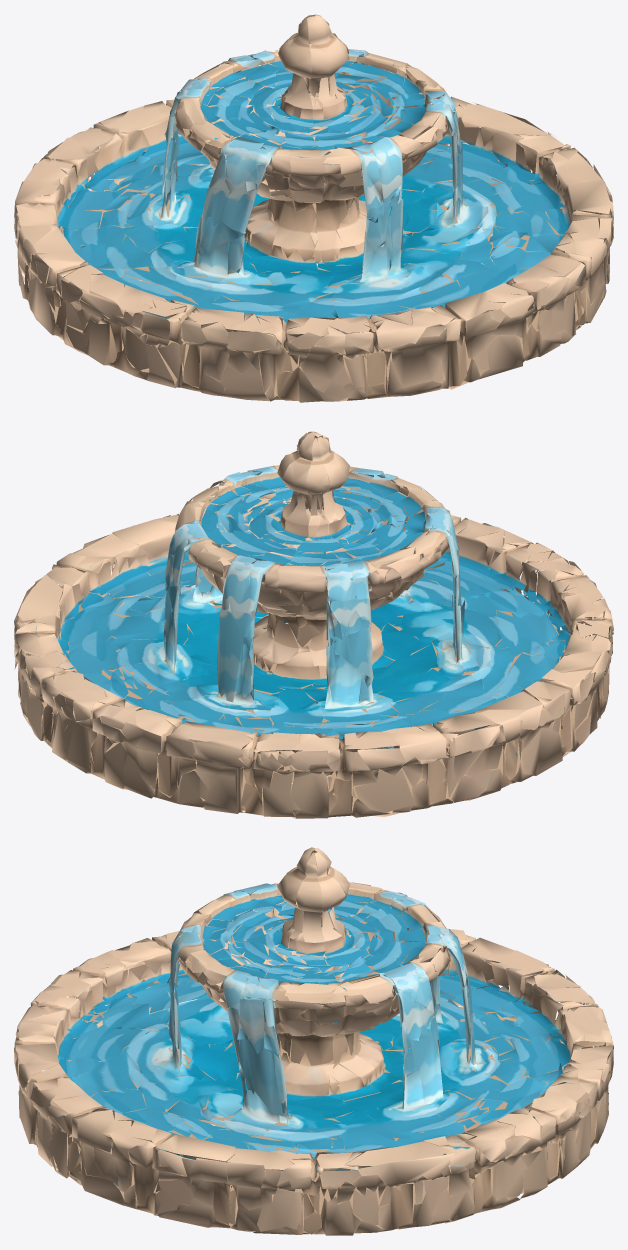
The model's file is fountain.glb.
The picture shows the model from 3 angles, top to bottom: view 1: azimuth 30°, elevation 25°; view 2: azimuth 150°, elevation 25°; view 3: azimuth 270°, elevation 25°; orthographic projection.
Parts seen in each view (by area): view 1: fountain; view 2: fountain; view 3: fountain.
Boxes of the visible parts, box(x1,y1,x2,y2) form: fountain: box(14, 14, 613, 402); fountain: box(14, 431, 613, 818); fountain: box(14, 847, 613, 1235).
Bounding box in the file's own units: 6.81 × 3.32 × 6.81.
Materials: 1 (1 with a texture image).
